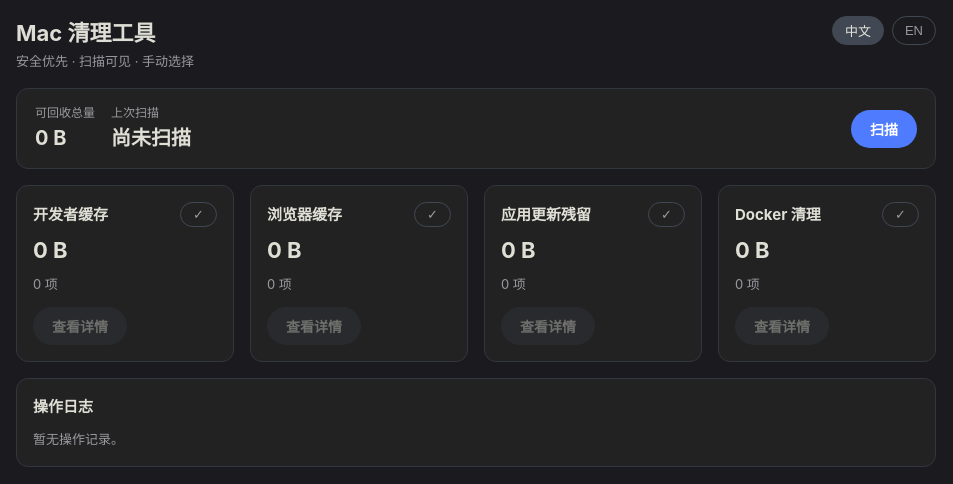
Test: App › switches the category labels to English when the EN chip is clicked
Click the button "EN".
click(914, 30)  # box [892, 16, 936, 45]
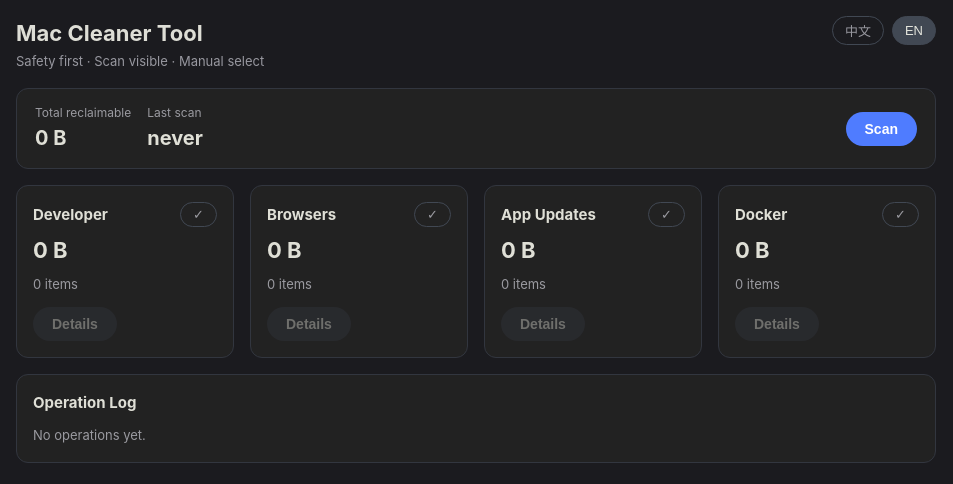
expect the heading "Developer" is shown: met, box [33, 203, 108, 227]
expect the heading "Browsers" is shown: met, box [267, 203, 336, 227]
